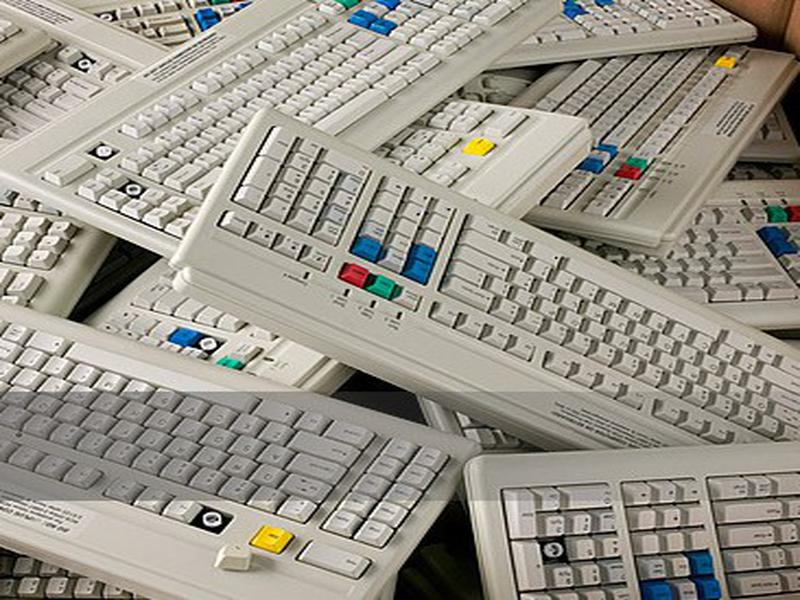keyboard: (189, 105, 800, 449), (2, 1, 567, 262), (1, 301, 476, 600), (509, 48, 797, 260), (456, 429, 800, 600)
